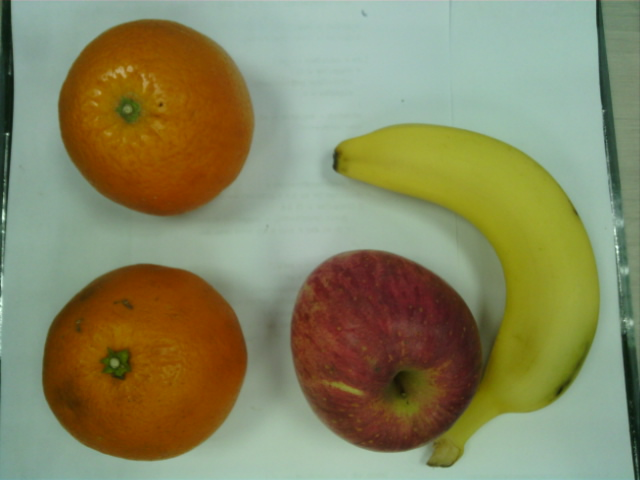normal_apple: (290, 249, 481, 452)
normal_banana: (333, 123, 601, 468)
normal_orange: (43, 257, 246, 460), (59, 18, 254, 218)
